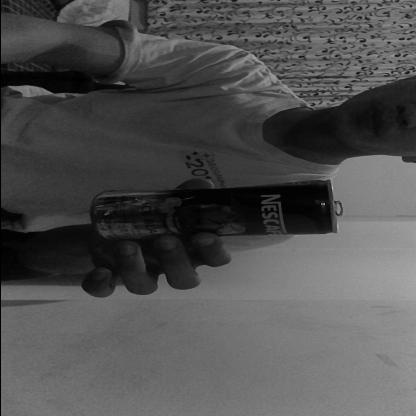alumunium_can: (87, 182, 344, 244)
